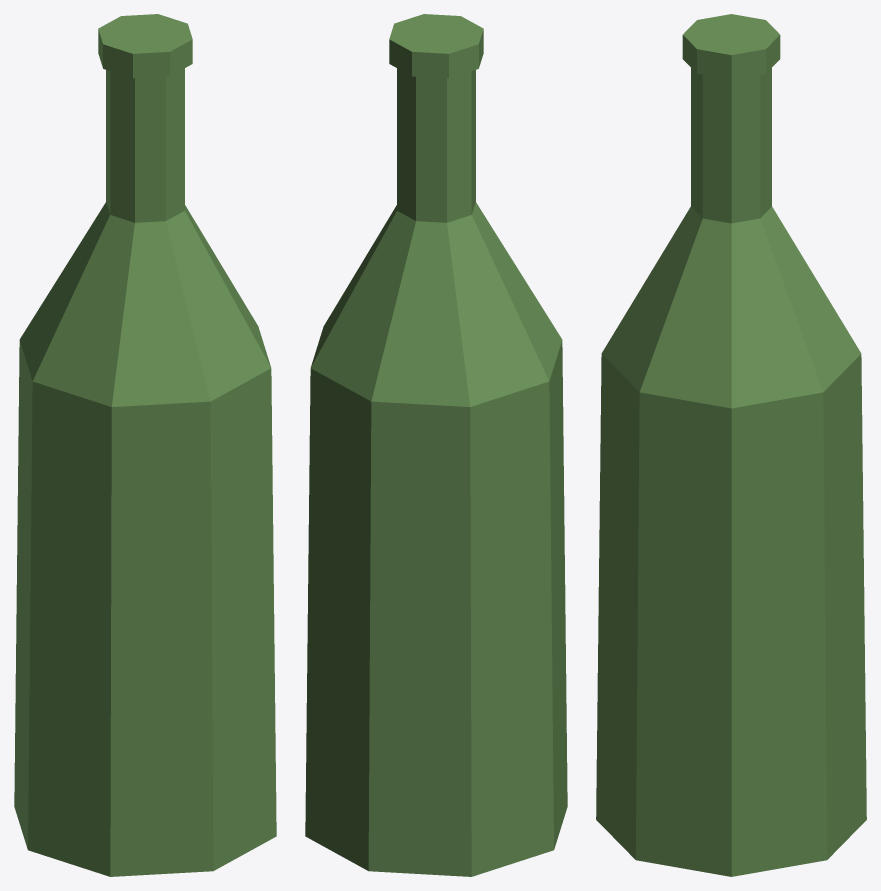
The model's file is bottle-green.glb.
3 views of the same model, side by side, from view 1: azimuth 30°, elevation 25°; view 2: azimuth 150°, elevation 25°; view 3: azimuth 270°, elevation 25° (orthographic).
Visible parts, largest first — view 1: bottle; view 2: bottle; view 3: bottle.
Boxes of the visible parts, box(x1,y1,x2,y2) form: bottle: box(14, 14, 276, 876); bottle: box(305, 14, 567, 876); bottle: box(596, 14, 866, 876).
Bounding box in the file's own units: 0.1 × 0.32 × 0.1.
